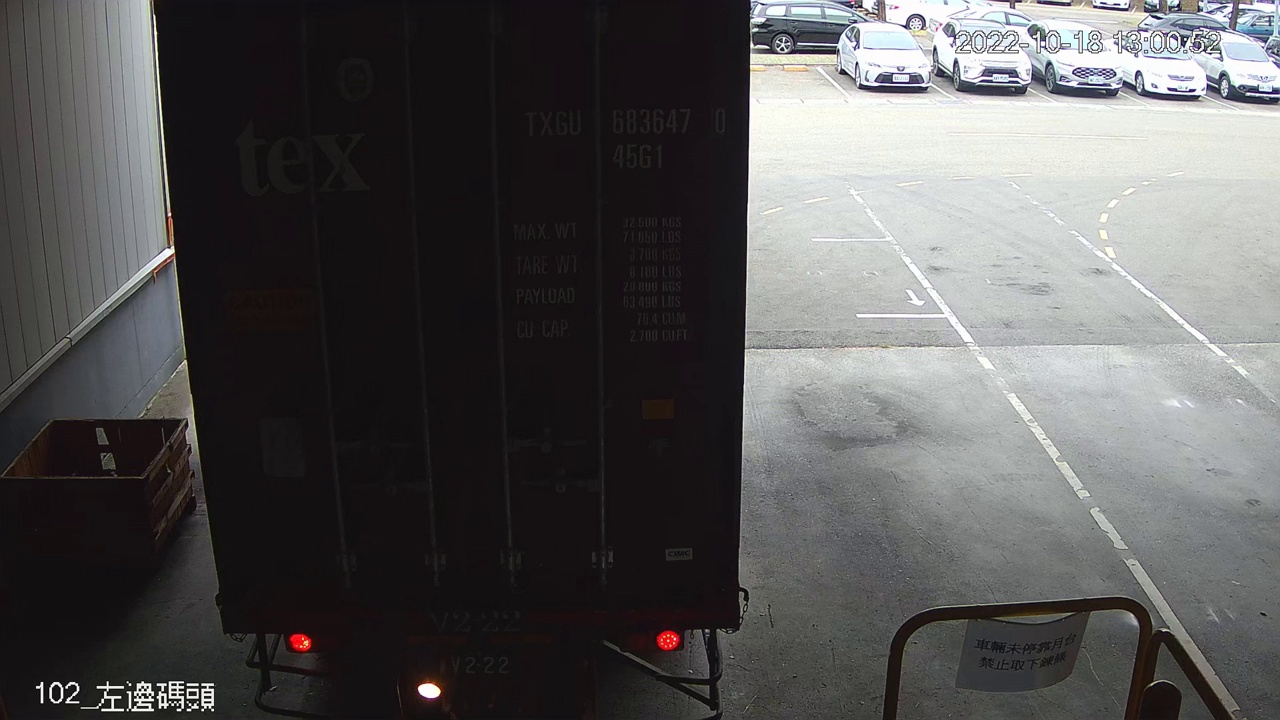container: (517, 94, 734, 176)
